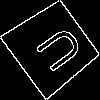U: (26, 23, 86, 80)
